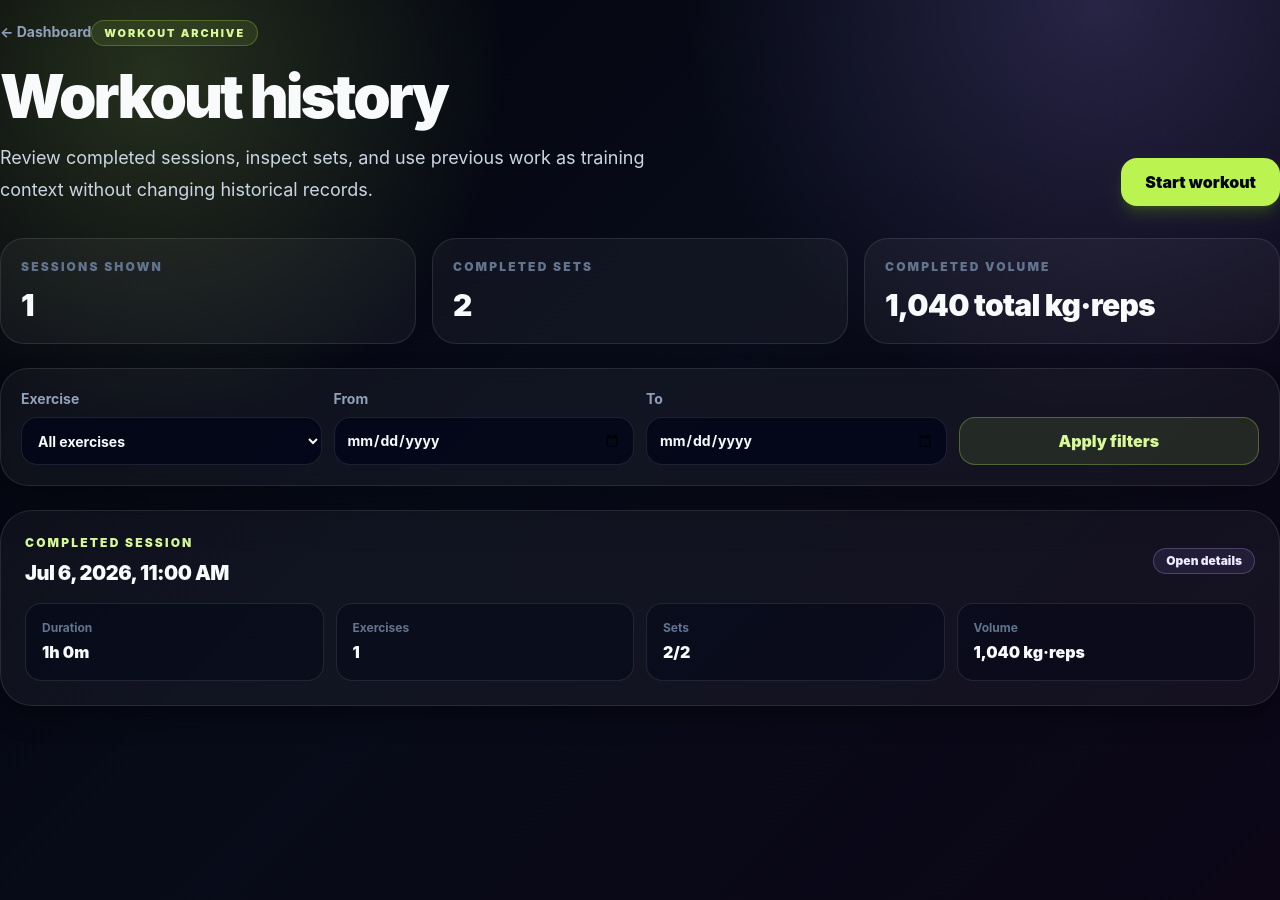
Test case: WorkoutHistoryScreen › loads ordered workout details only when expanded
The width and height of the screenshot is (1280, 900).
What coordinates should you click on to do the following:
click the text "1,040 kg·reps"
I would click on:
 (1029, 652)
Its box is [974,642,1085,662].
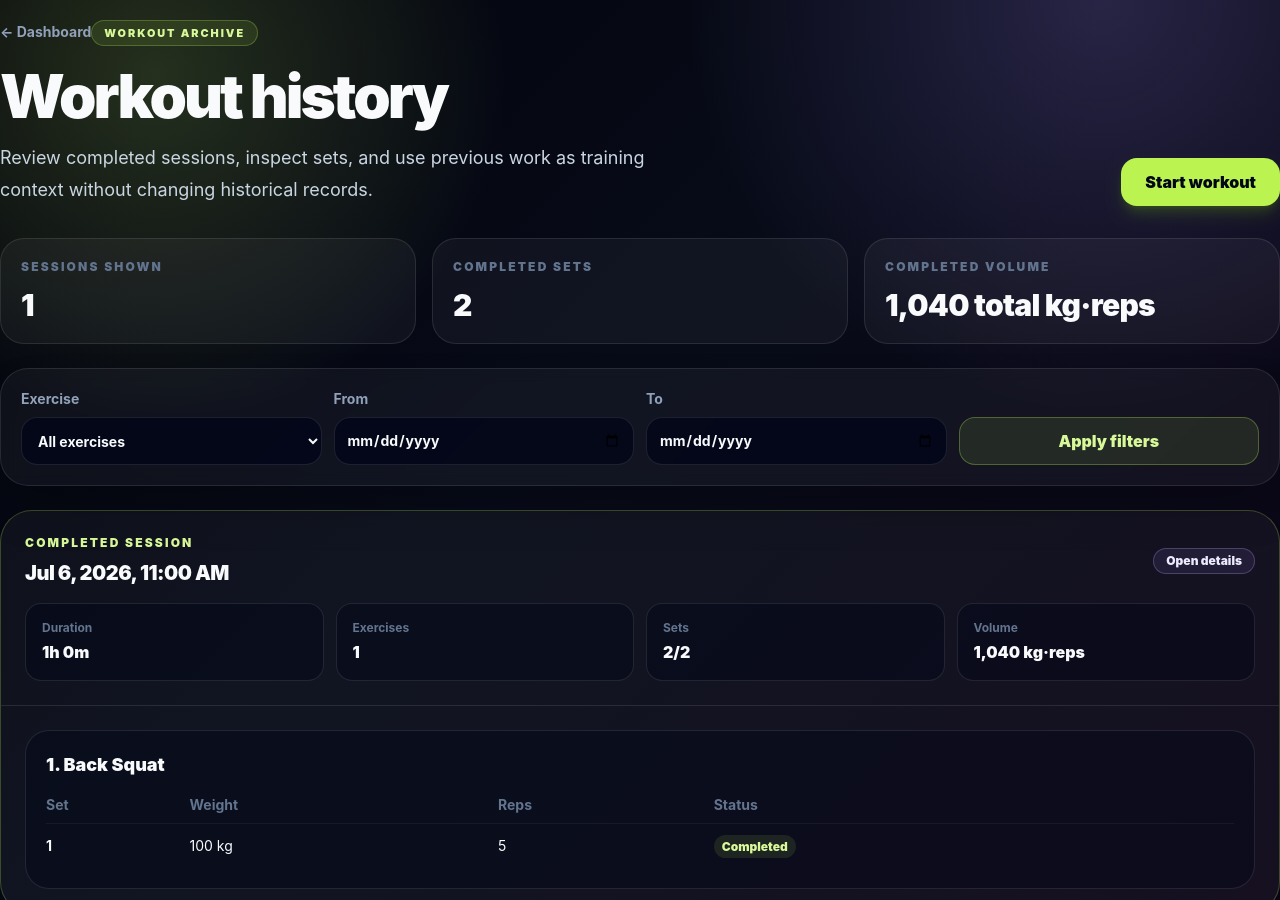
Expected: the heading "1. Back Squat" is shown, [46,754,165,775]
Expected: the cell "100 kg" is shown, [190,824,498,868]
